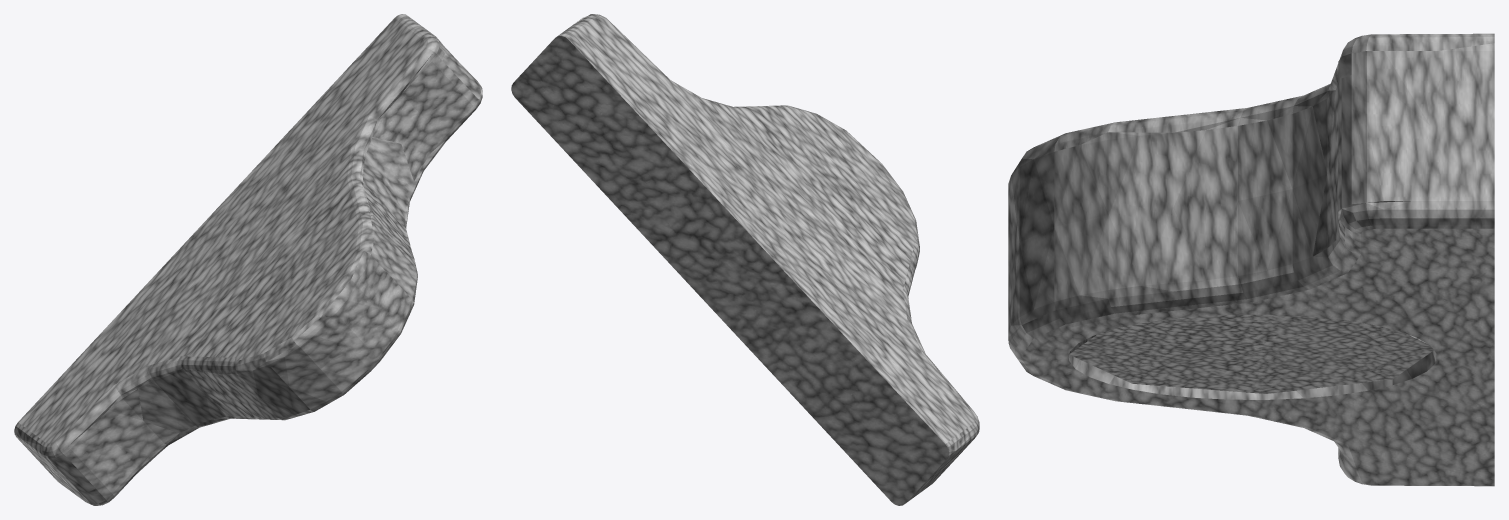
Rendered from reloj.dae.
3 views of the same model, side by side, from view 1: azimuth 30°, elevation 25°; view 2: azimuth 150°, elevation 25°; view 3: azimuth 270°, elevation 25° (orthographic). The views are drawn at different scales.
Parts seen in each view (by area): view 1: node; view 2: node; view 3: node.
Part boxes in pixels (x1,y1,x2,y2): node: (14, 14, 482, 505); node: (511, 14, 979, 505); node: (1008, 33, 1494, 486).
Bounding box in the file's own units: 156 × 132 × 75.1.
Materials: 1 (1 with a texture image).
